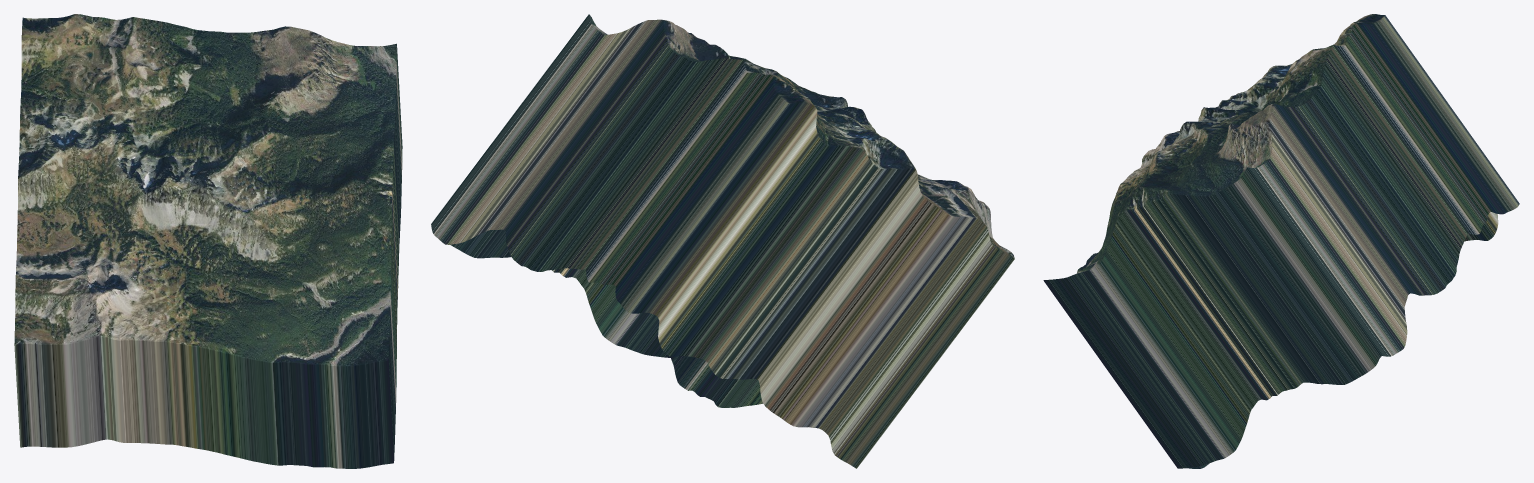
3 renders of one model, left to right at view 1: azimuth 30°, elevation 25°; view 2: azimuth 150°, elevation 25°; view 3: azimuth 270°, elevation 25°, orthographic. The views are drawn at different scales.
Bounding box in the file's own units: 6296 × 5244 × 6171.
1 material, 1 textured.
